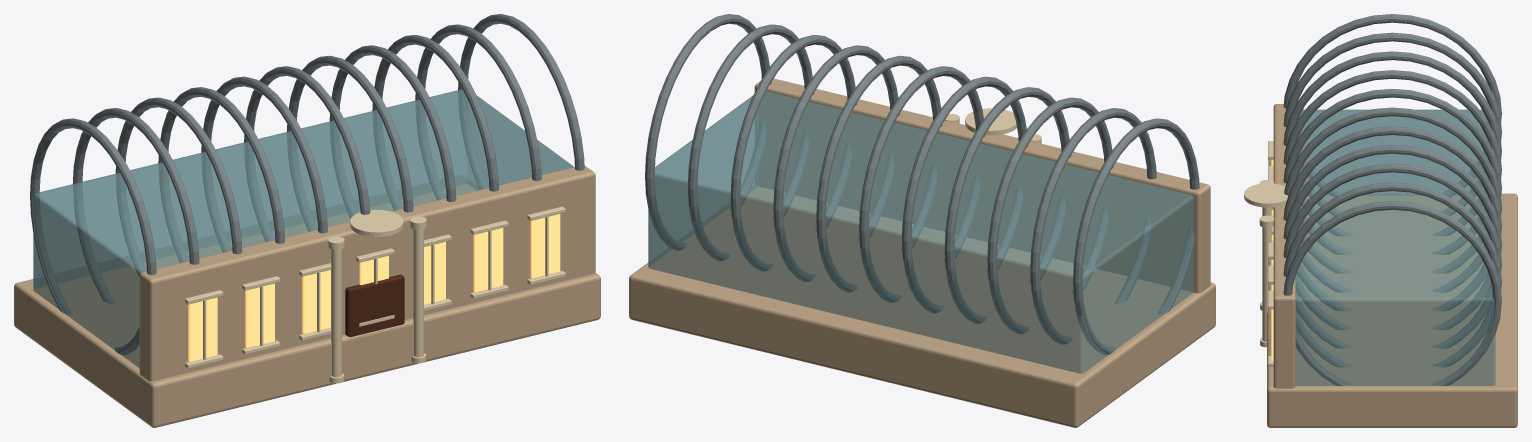
Rendered from paris-station.glb.
3 renders of one model, left to right at view 1: azimuth 30°, elevation 25°; view 2: azimuth 150°, elevation 25°; view 3: azimuth 270°, elevation 25°, orthographic. The views are drawn at different scales.
Visible parts, largest first — view 1: Optimized Paris landmark; view 2: Optimized Paris landmark; view 3: Optimized Paris landmark.
Part boxes in pixels (x1,y1,x2,y2): Optimized Paris landmark: (14,14,600,427); Optimized Paris landmark: (629,14,1215,427); Optimized Paris landmark: (1244,14,1517,427).
Size of the model in its own units: 12.6 by 6.67 by 7.42.
